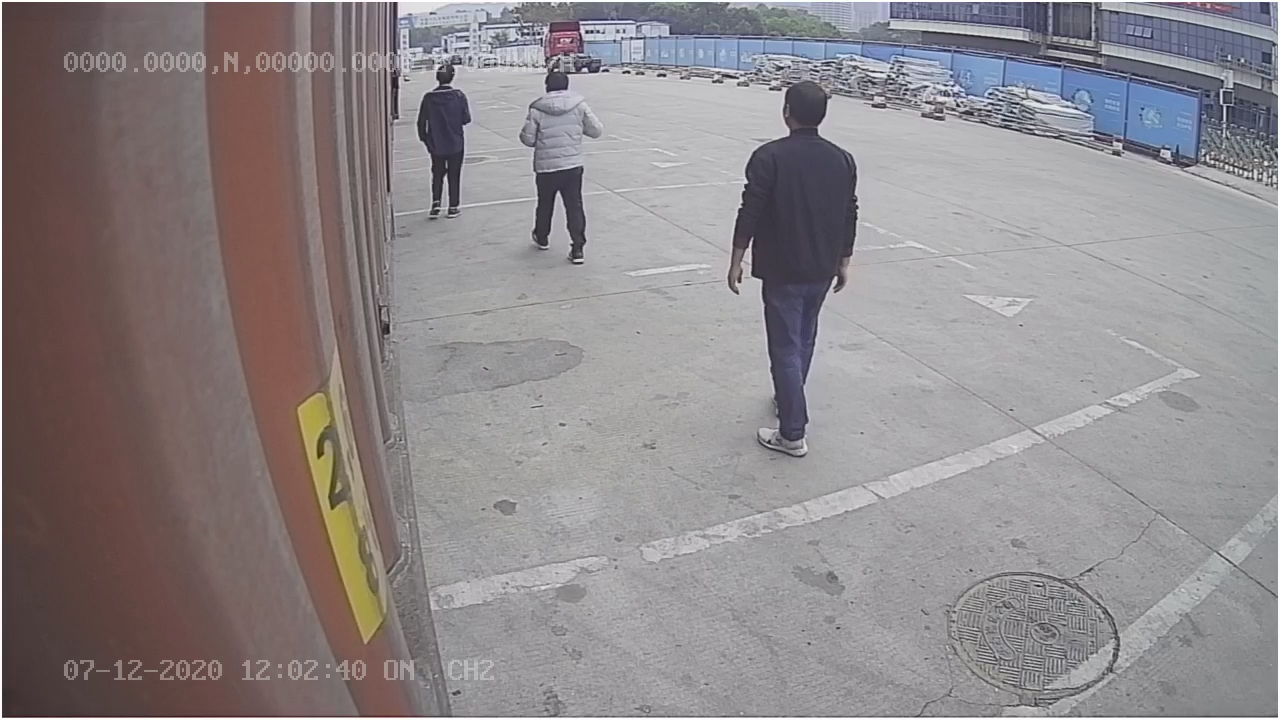person: (728, 75, 863, 460)
